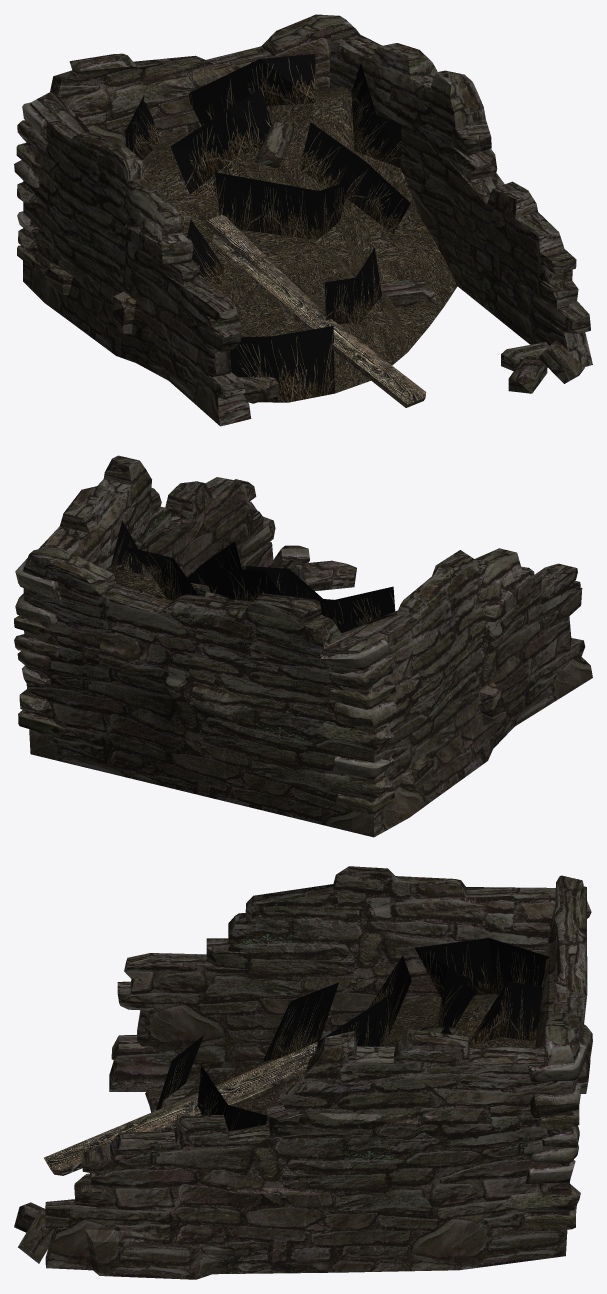
File: G3_Object_Dunghill_01.obj
The picture shows the model from 3 angles, top to bottom: view 1: azimuth 30°, elevation 25°; view 2: azimuth 150°, elevation 25°; view 3: azimuth 270°, elevation 25°; orthographic projection. The views are drawn at different scales.
Parts seen in each view (by area): view 1: G3_Object_Dunghill_01_2, G3_Object_Dunghill_01_1, G3_Object_Dunghill_01_0, G3_Object_Dunghill_01_3; view 2: G3_Object_Dunghill_01_2, G3_Object_Dunghill_01_1, G3_Object_Dunghill_01_0; view 3: G3_Object_Dunghill_01_2, G3_Object_Dunghill_01_1, G3_Object_Dunghill_01_3, G3_Object_Dunghill_01_0.
Boxes of the visible parts, box(x1,y1,x2,y2) form: G3_Object_Dunghill_01_2: box(14, 14, 592, 426); G3_Object_Dunghill_01_1: box(125, 54, 410, 402); G3_Object_Dunghill_01_0: box(142, 86, 457, 393); G3_Object_Dunghill_01_3: box(206, 215, 426, 407); G3_Object_Dunghill_01_2: box(14, 455, 592, 837); G3_Object_Dunghill_01_1: box(110, 520, 395, 633); G3_Object_Dunghill_01_0: box(107, 568, 209, 597); G3_Object_Dunghill_01_2: box(14, 866, 592, 1279); G3_Object_Dunghill_01_1: box(156, 938, 548, 1131); G3_Object_Dunghill_01_3: box(44, 1042, 317, 1175); G3_Object_Dunghill_01_0: box(173, 993, 537, 1131).
Size of the model in its own units: 4.94 by 2.73 by 5.85.
